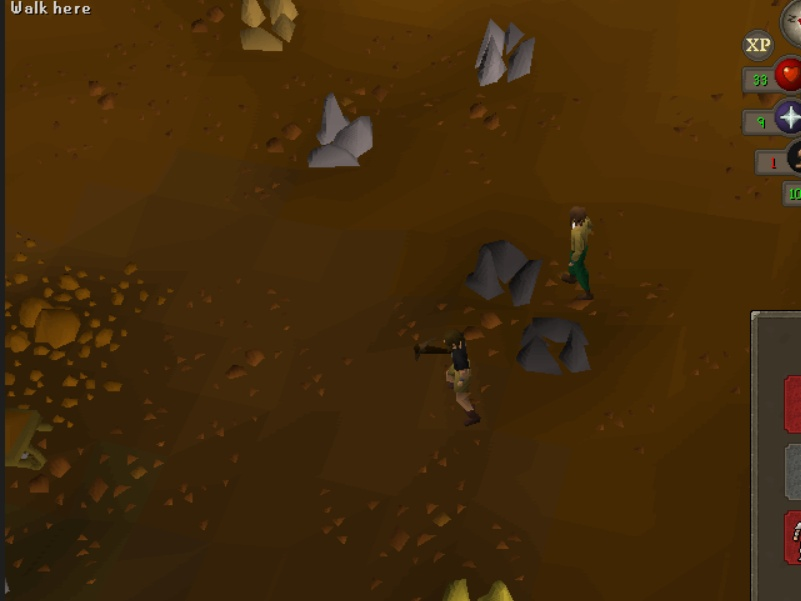clay: (236, 1, 306, 57)
tin: (301, 87, 387, 181), (461, 12, 547, 106)
